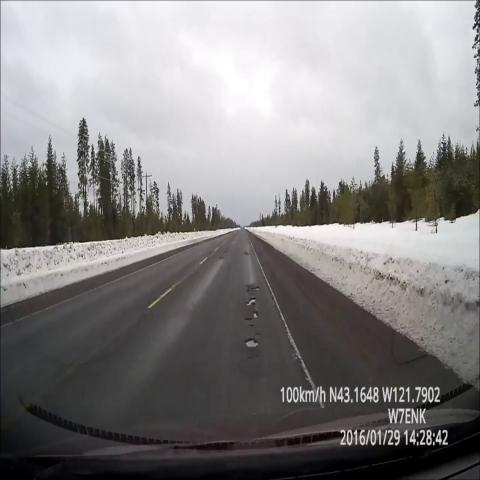pothole: (239, 280, 264, 330), (237, 327, 262, 362), (216, 241, 235, 263), (241, 234, 253, 262)
